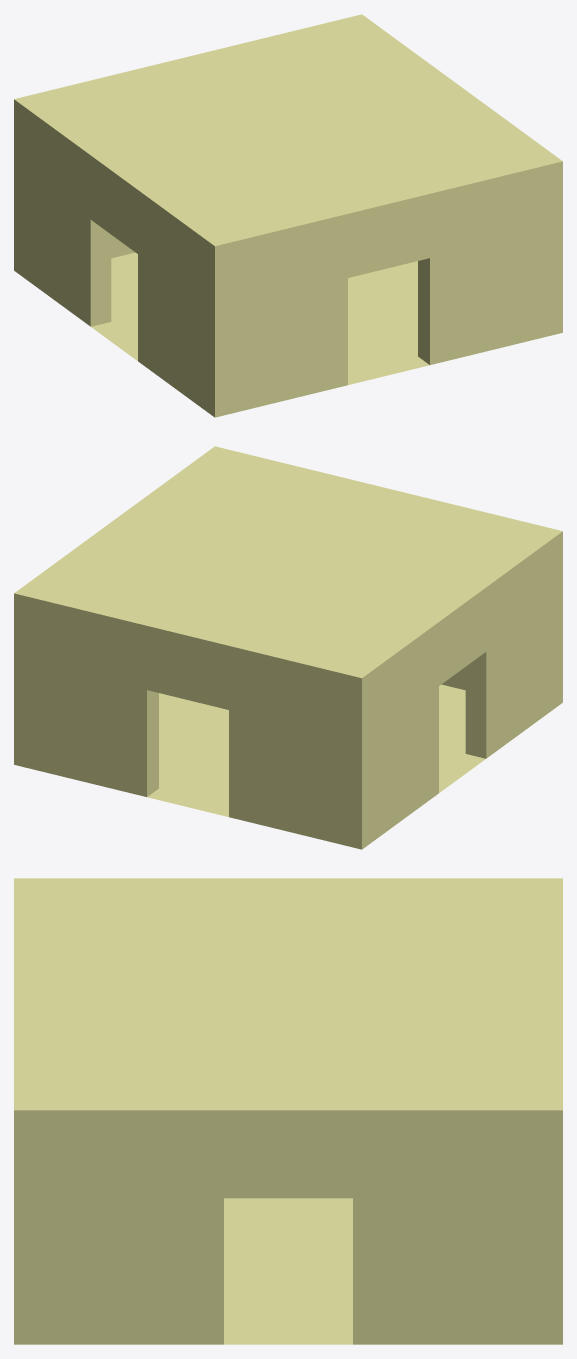
Rendered from SandigerRaum.fbx.
The picture shows the model from 3 angles, top to bottom: view 1: azimuth 30°, elevation 25°; view 2: azimuth 150°, elevation 25°; view 3: azimuth 270°, elevation 25°; orthographic projection. The views are drawn at different scales.
Parts seen in each view (by area): view 1: Plane; view 2: Plane; view 3: Plane.
Part boxes in pixels (x1,y1,x2,y2): Plane: (14, 14, 562, 417); Plane: (14, 446, 562, 849); Plane: (14, 878, 562, 1344).
Bounding box in the file's own units: 1700 × 800 × 1700.
